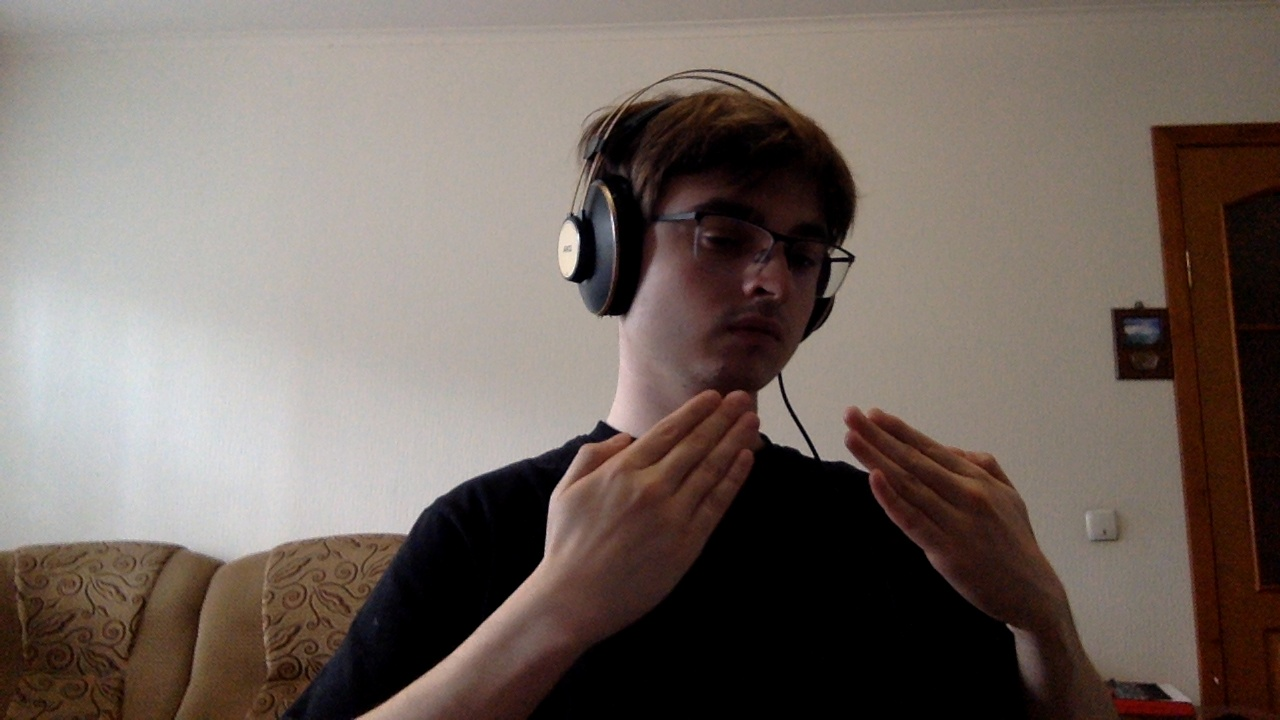thank you: (524, 363, 1074, 640)
